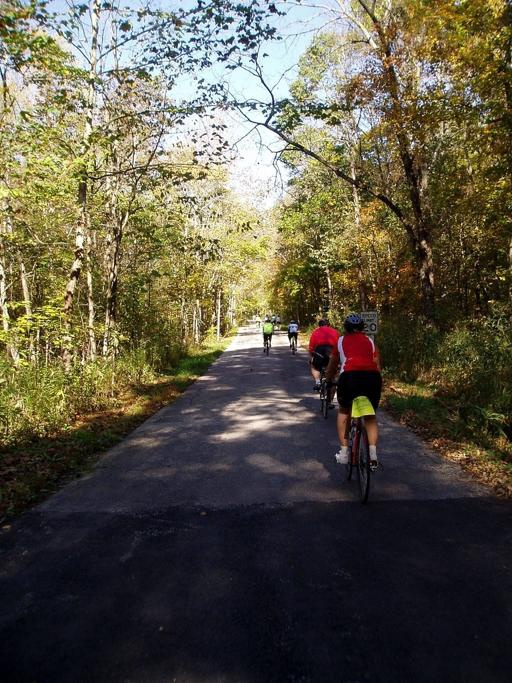non-vehicle: (343, 394, 375, 504), (309, 358, 335, 418), (263, 336, 270, 355), (290, 335, 296, 354)
